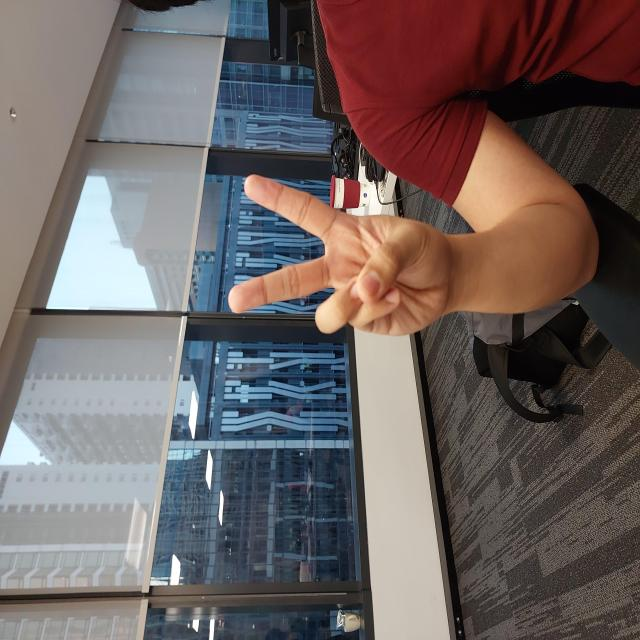V: (301, 227, 469, 452)
